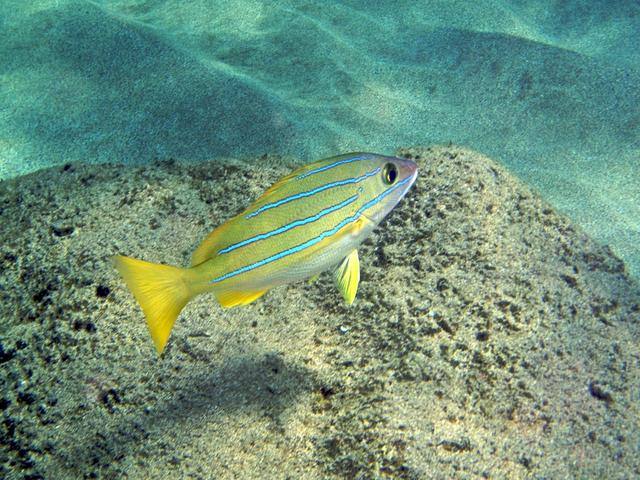fish: (91, 94, 472, 394)
